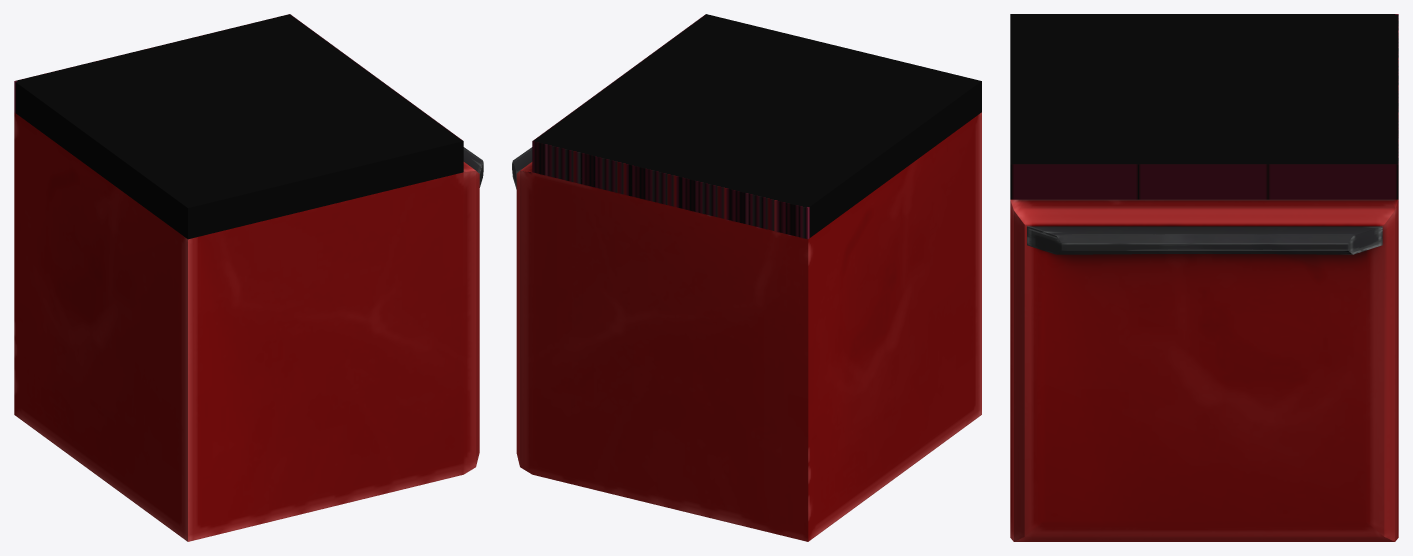
File: RE_RKitchenDishwasher.FBX
3 renders of one model, left to right at view 1: azimuth 30°, elevation 25°; view 2: azimuth 150°, elevation 25°; view 3: azimuth 270°, elevation 25°, orthographic. The views are drawn at different scales.
Visible parts, largest first — view 1: RE_RKitchenDishwasher; view 2: RE_RKitchenDishwasher; view 3: RE_RKitchenDishwasher.
Part boxes in pixels (<box>): RE_RKitchenDishwasher: <box>14,14,483,541</box>; RE_RKitchenDishwasher: <box>512,14,981,541</box>; RE_RKitchenDishwasher: <box>1010,14,1398,541</box>.
Size of the model in its own units: 50.85 by 50.89 by 48.
2 materials, 2 textured.
